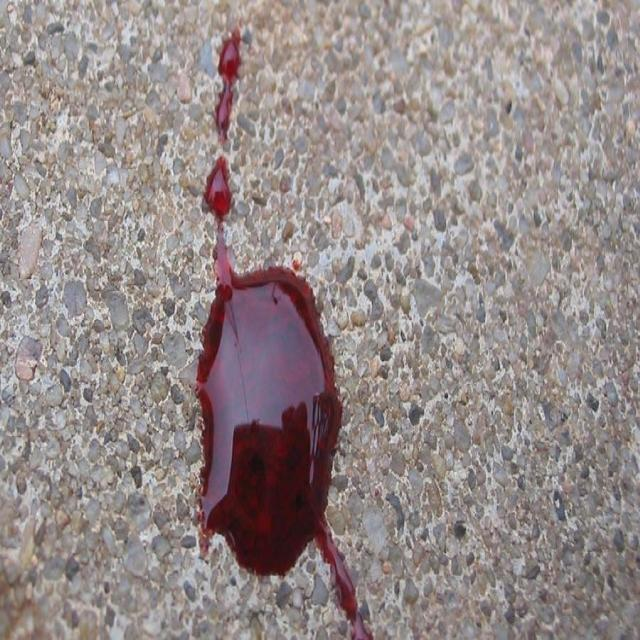flood: (166, 22, 379, 640)
